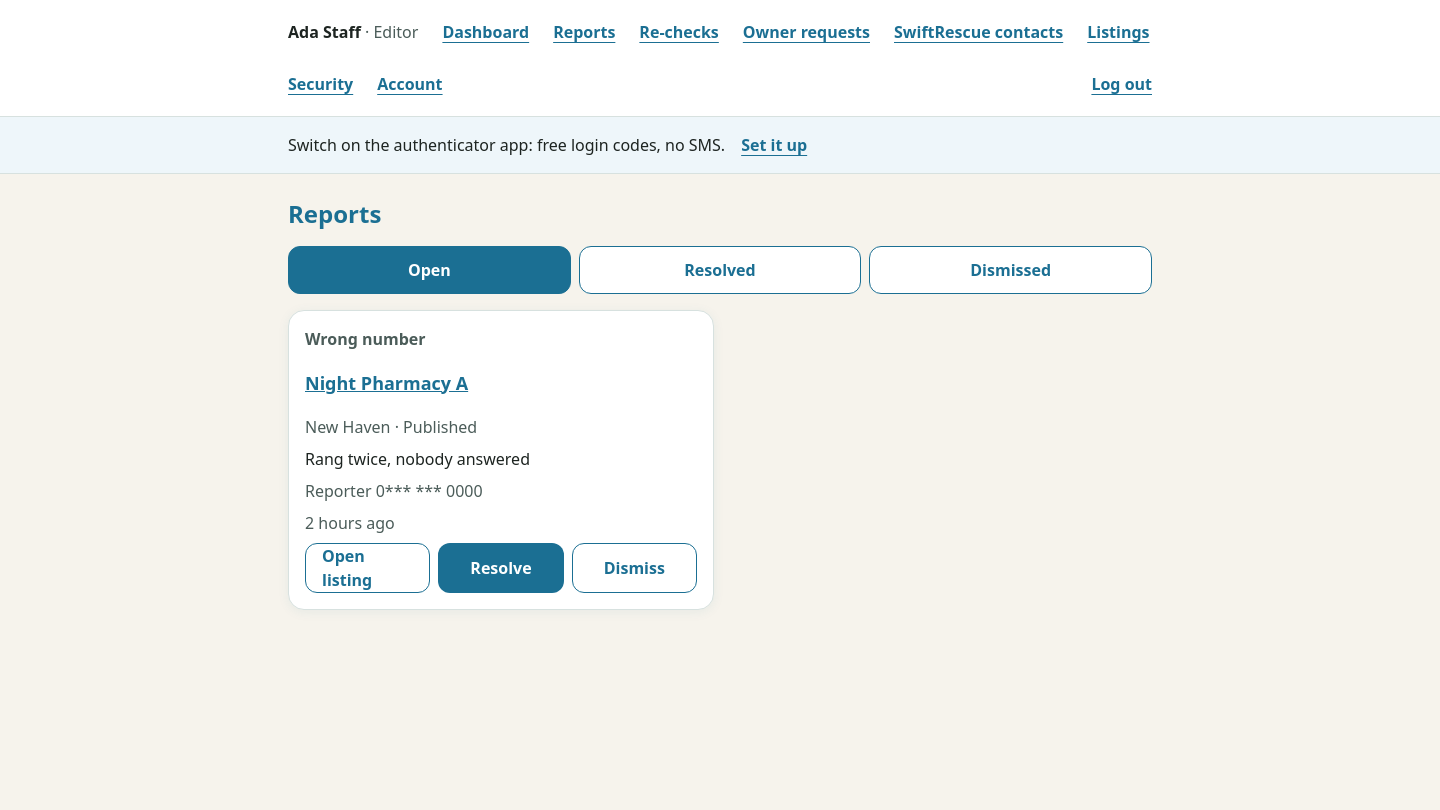
Test: resolving and dismissing › shows the API's sentence when the report was already closed by someone else
The image size is (1440, 810).
Click the button "Dismiss" at (634, 568), box [572,543,697,593]
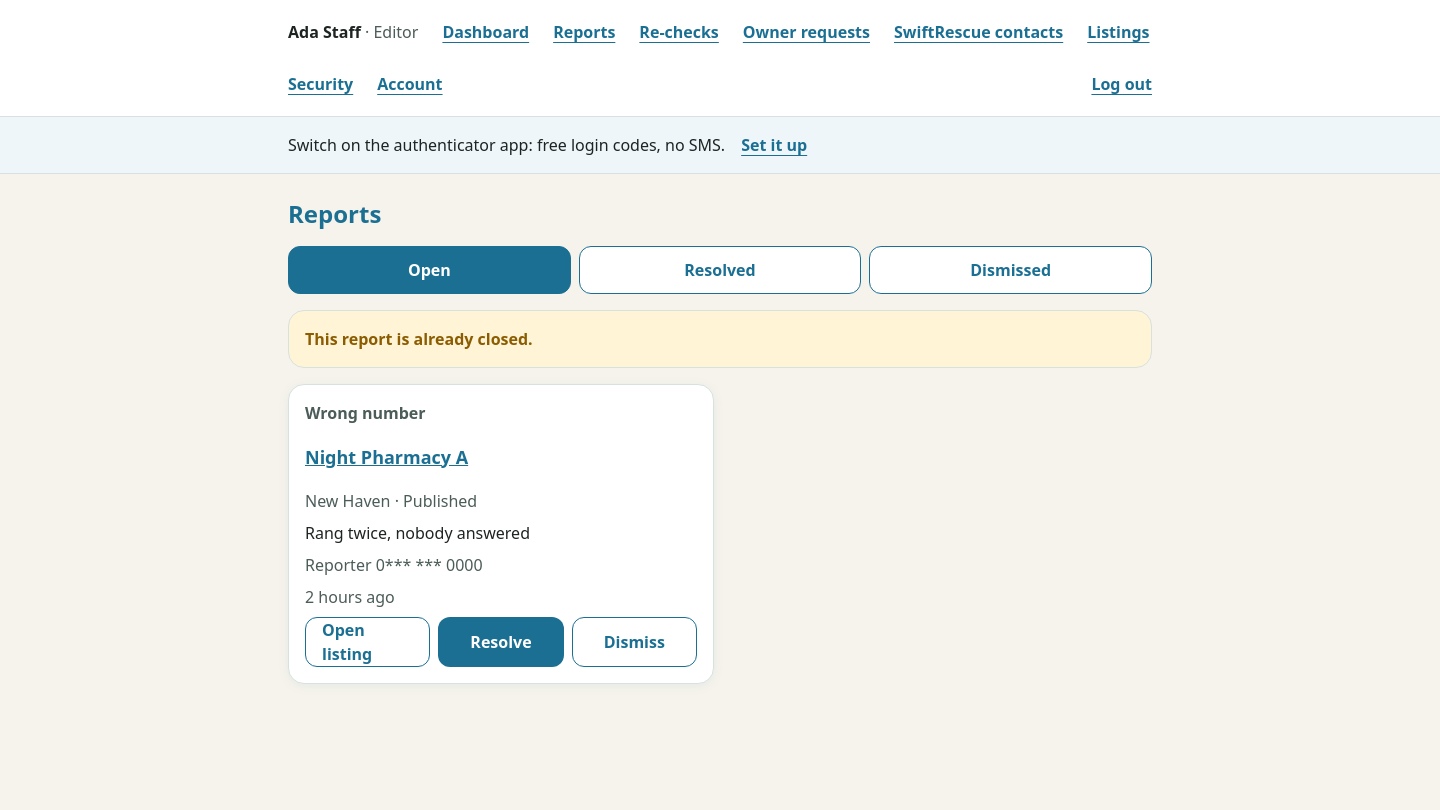
Now the message reads "This report is already closed.", box [305,328,533,350]
